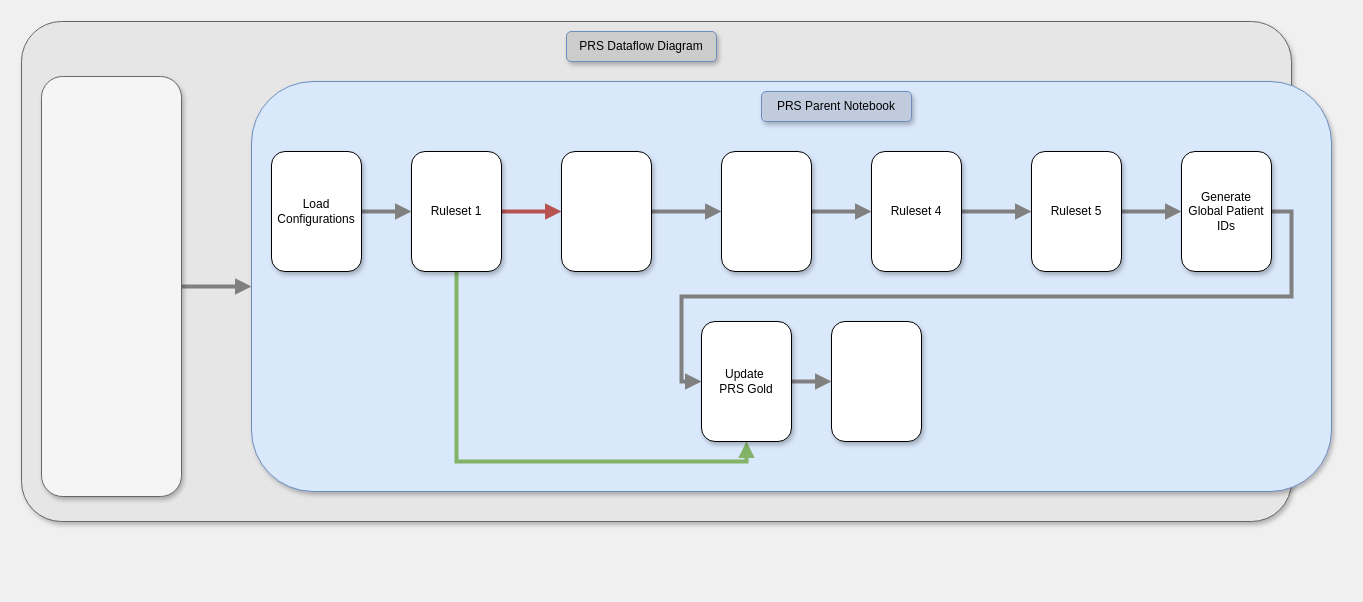
The diagram is 1363 pixels wide and 602 high, and some of its shapes have lost their labels. Each missing label, with the centre of its shape:
"dQM Bronze Import Complete" belongs at (112,288).
"Ruleset 2" belongs at (607,212).
"Ruleset 3" belongs at (767,212).
"Update dQM Bronze" belongs at (877,382).
